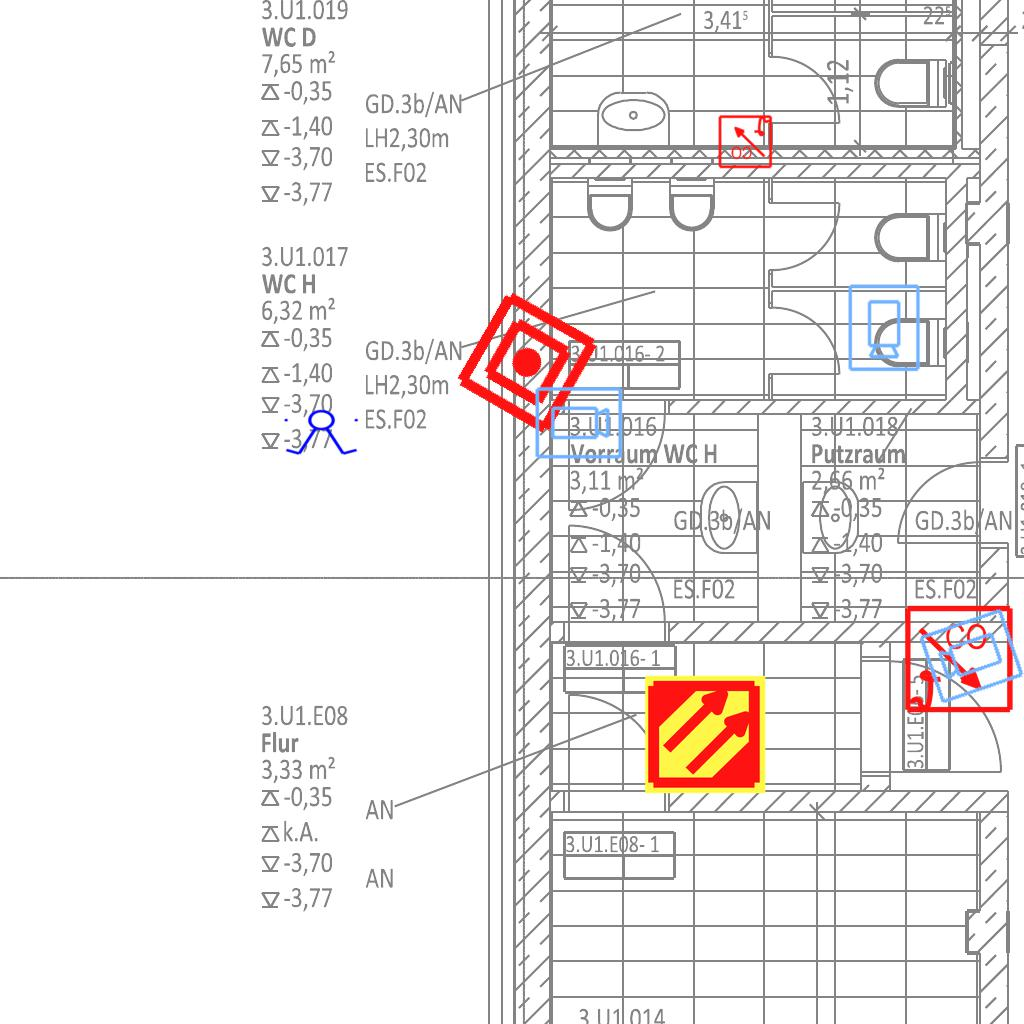ASR_Ansaugrauchmelder: (643, 672, 768, 797)
KFO_Kamera_mit_Festobjektiv: (915, 604, 1024, 707), (845, 282, 922, 373), (533, 385, 624, 462)
NAM-Nichtautomatischer_Melder: (450, 285, 605, 440)
ROA_Rauchmelder_optisch_mit_Signalgeber_(Sockelsirene): (903, 604, 1016, 717), (717, 113, 773, 169)
Serienschalter: (280, 409, 364, 457)
